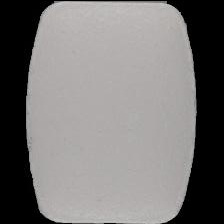68151-0185: (0, 0, 224, 224)
